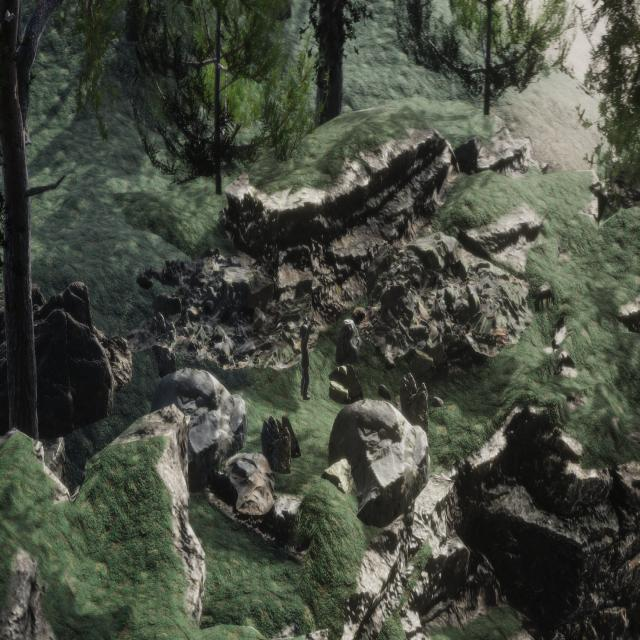Human: (293, 306, 319, 409)
